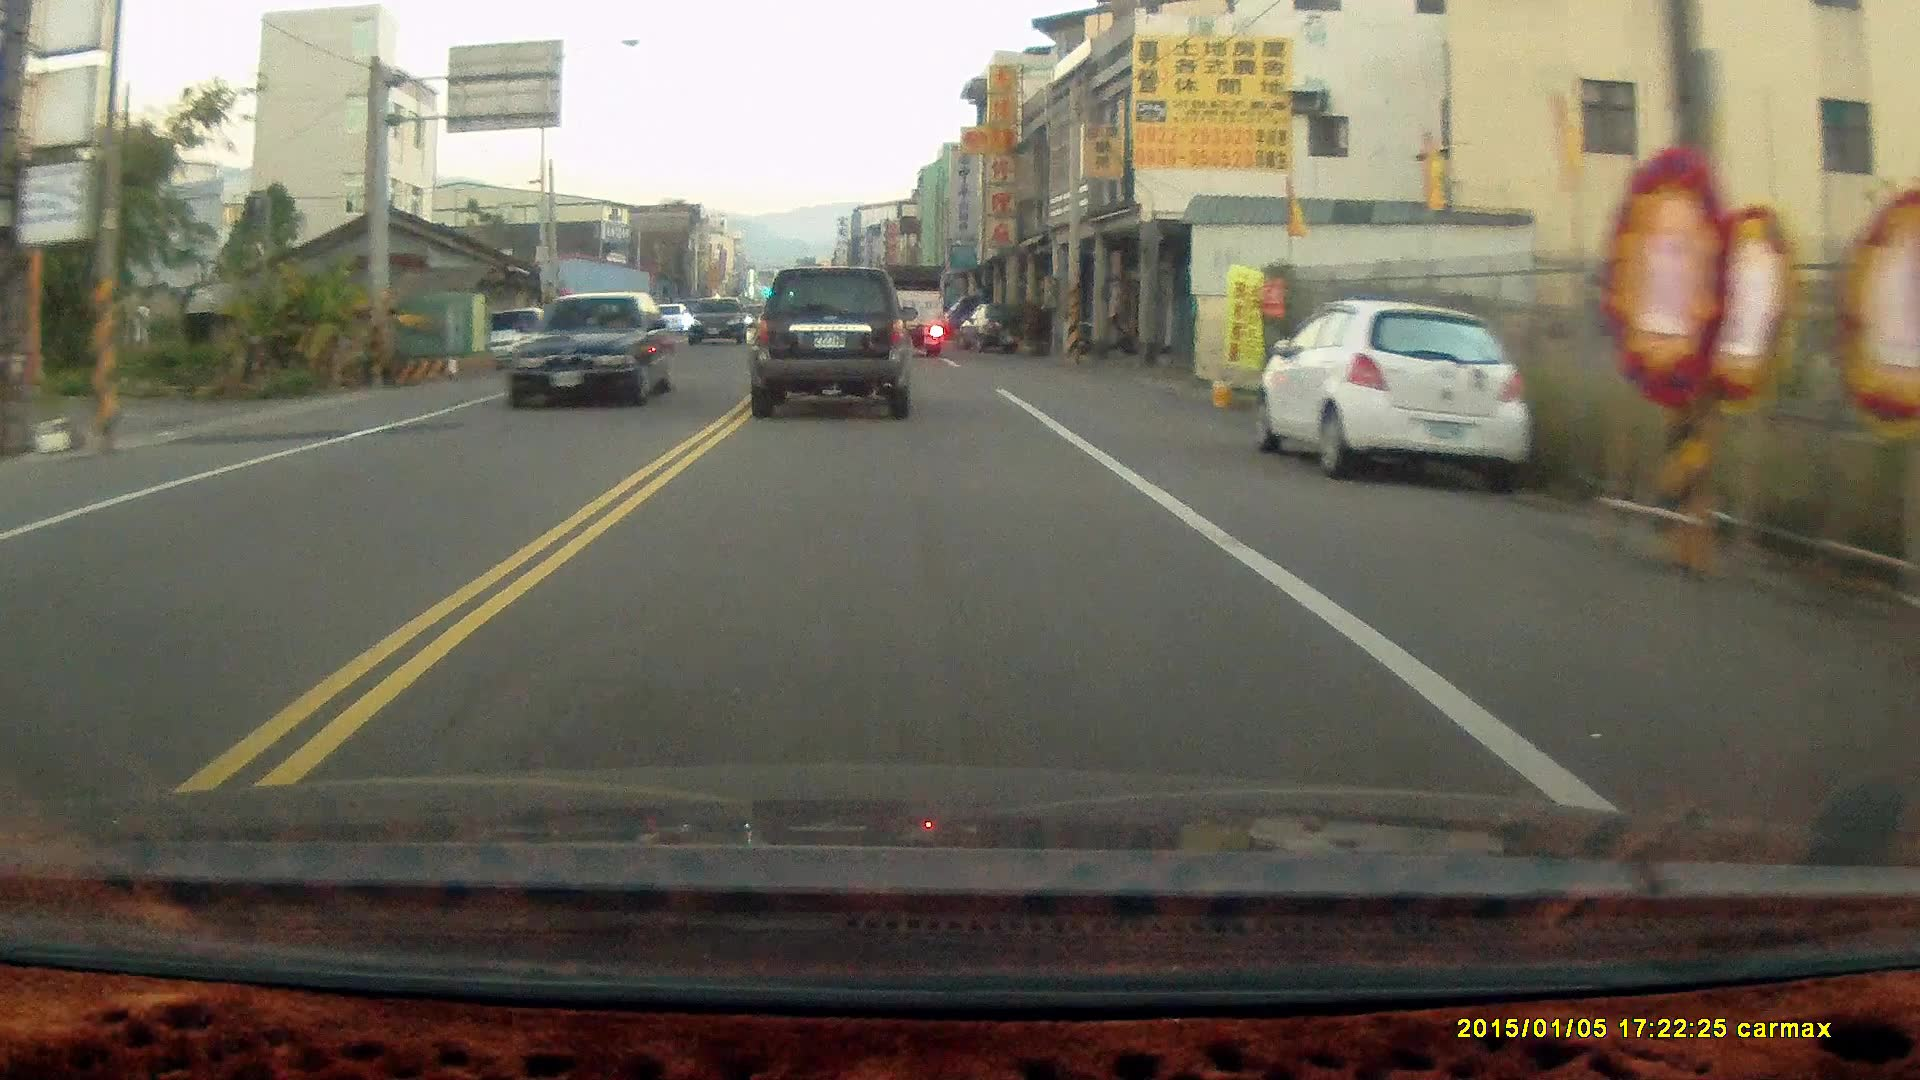vehicle: (1259, 301, 1536, 496), (745, 268, 918, 425), (506, 291, 682, 413), (874, 262, 949, 360), (473, 309, 558, 369), (688, 298, 752, 353)
